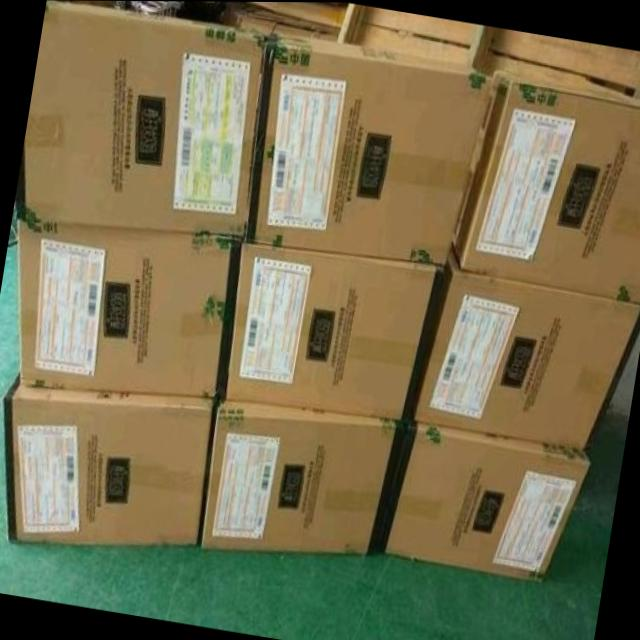box: (24, 0, 275, 240), (253, 31, 492, 265), (414, 245, 640, 451), (451, 69, 640, 303), (17, 219, 231, 398), (226, 242, 436, 419), (3, 373, 213, 544), (384, 422, 591, 583), (201, 400, 397, 553)
